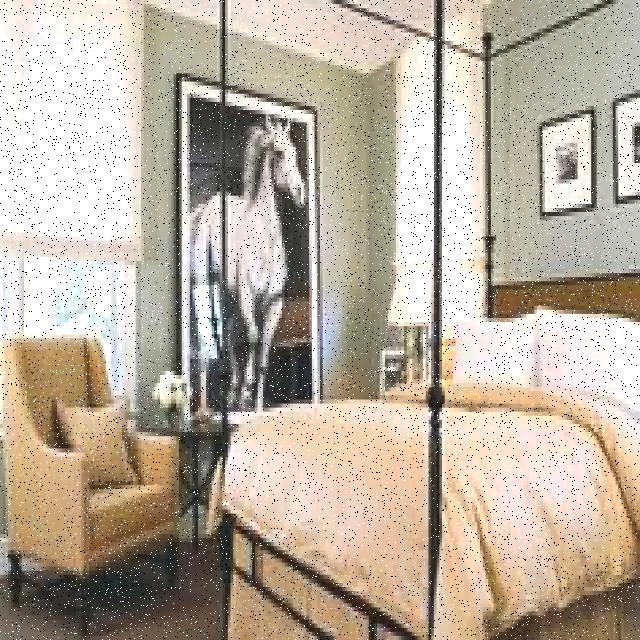bed: (214, 301, 637, 640)
